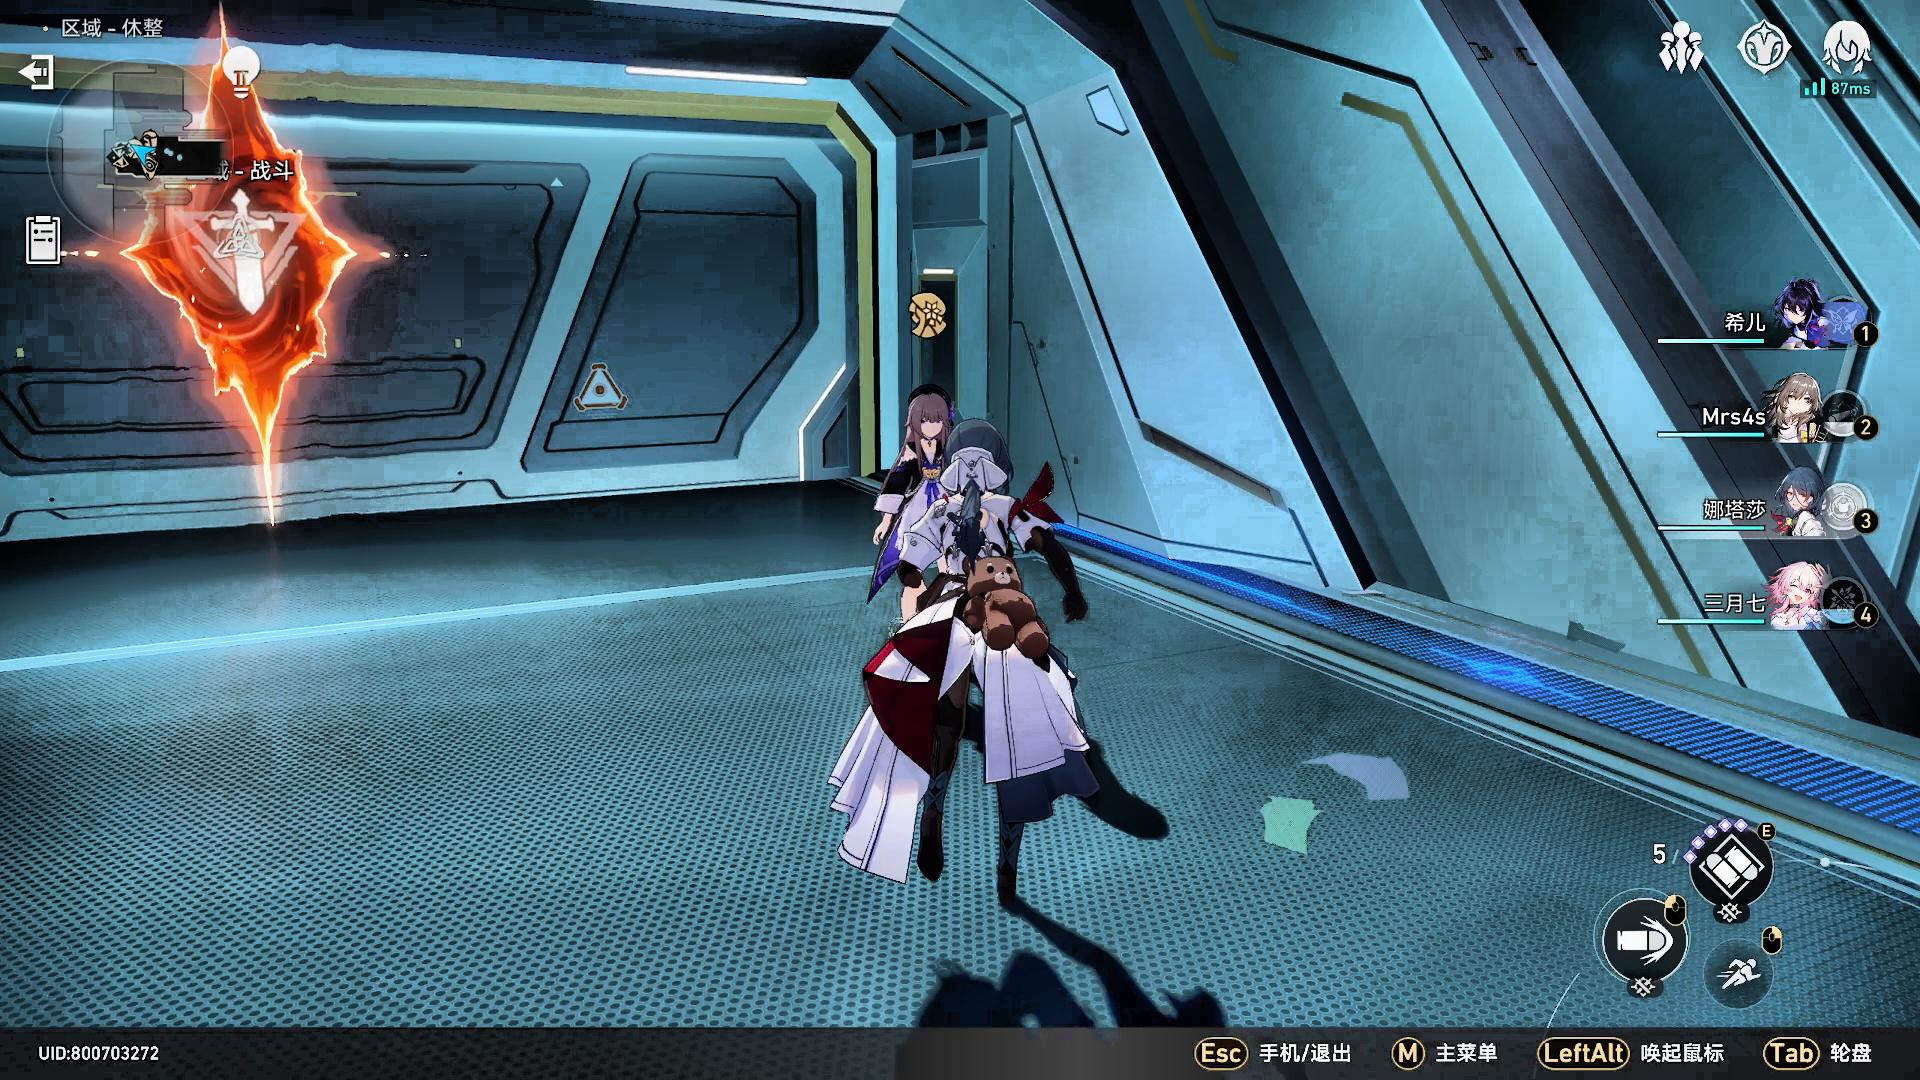BattleDoor: (109, 53, 407, 559)
Self: (833, 430, 1089, 923)
TeamMate: (869, 377, 963, 649)
